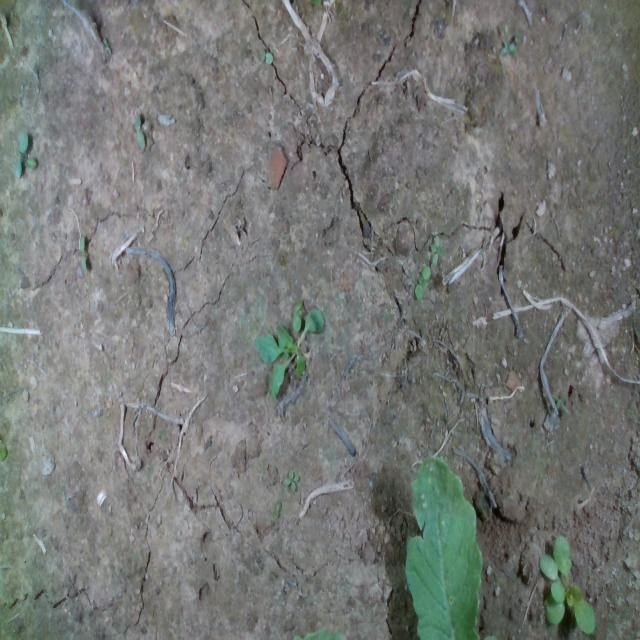weed: (12, 128, 38, 178), (413, 264, 431, 300), (133, 109, 145, 152), (282, 466, 300, 492), (430, 232, 442, 265), (79, 232, 87, 272), (258, 46, 272, 65), (272, 498, 280, 518)
